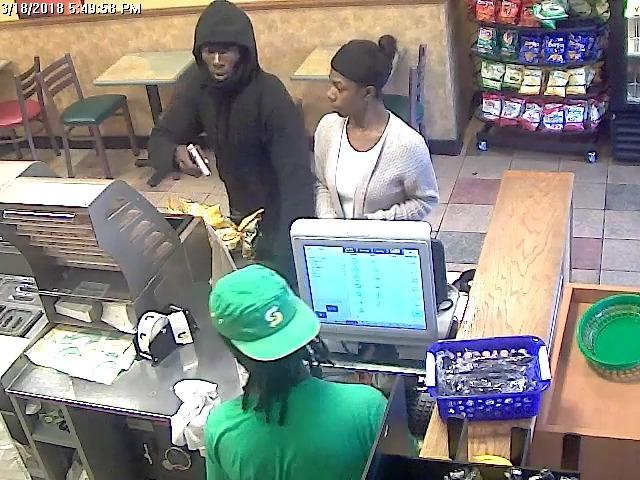weapon: (182, 138, 216, 181)
